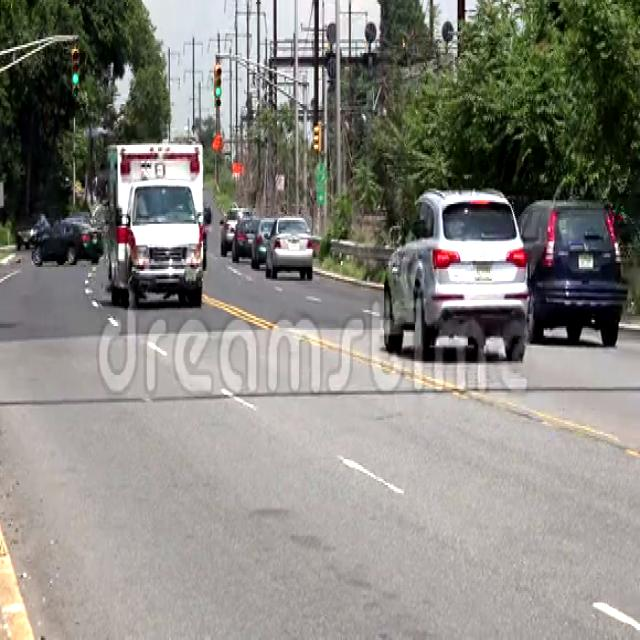ambulance: (106, 141, 212, 312)
